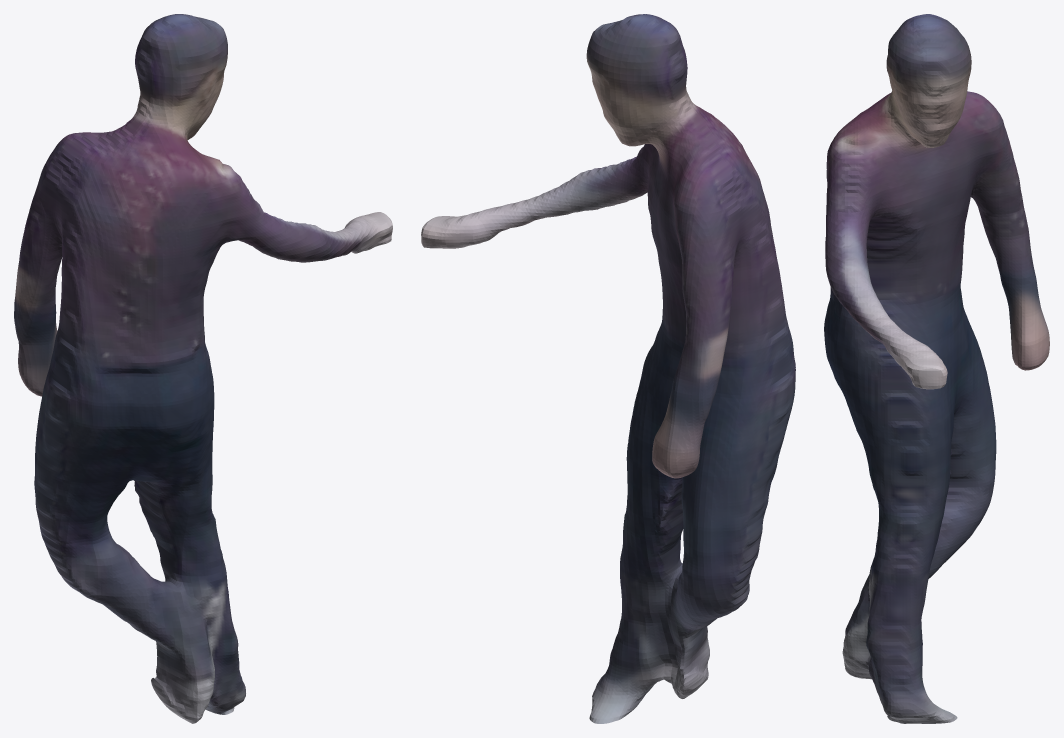
Rendered from 0050_tex.glb.
3 views of the same model, side by side, from view 1: azimuth 30°, elevation 25°; view 2: azimuth 150°, elevation 25°; view 3: azimuth 270°, elevation 25° (orthographic). The views are drawn at different scales.
Visible parts, largest first — view 1: 0050_tex.obj; view 2: 0050_tex.obj; view 3: 0050_tex.obj.
Boxes of the visible parts, x1,y1,x2,y2 form: 0050_tex.obj: (14, 14, 392, 723); 0050_tex.obj: (421, 14, 795, 723); 0050_tex.obj: (824, 14, 1049, 723).
Size of the model in its own units: 0.468 by 0.8986 by 0.2692.
